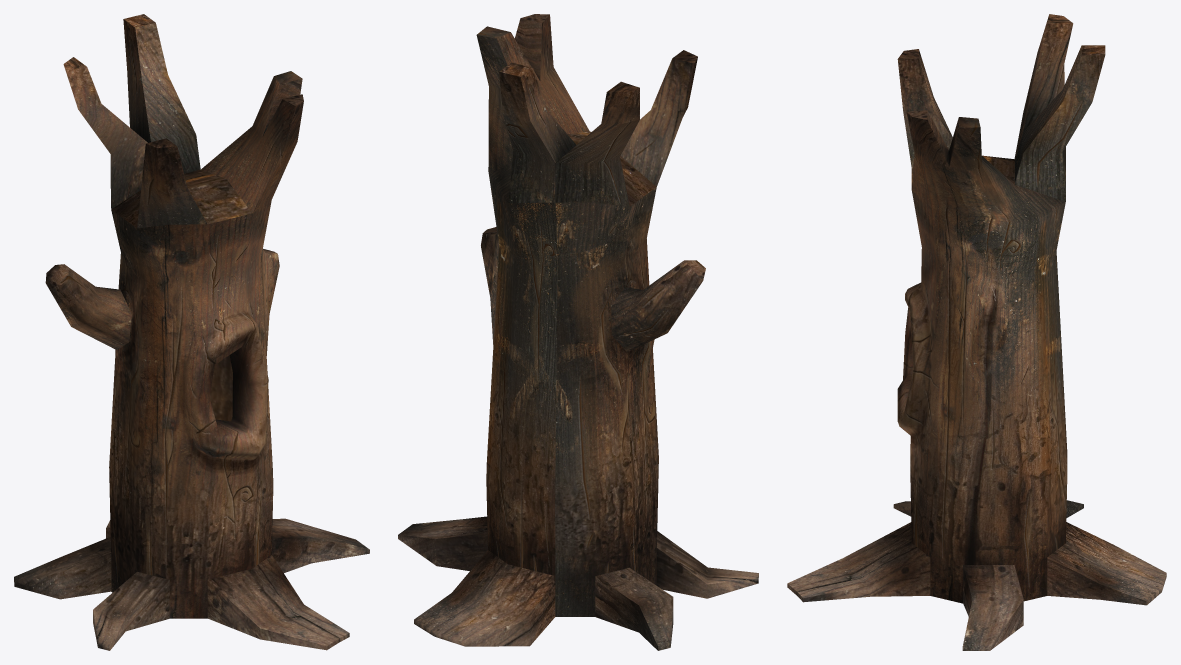
File: old_tree.glb
3 views of the same model, side by side, from view 1: azimuth 30°, elevation 25°; view 2: azimuth 150°, elevation 25°; view 3: azimuth 270°, elevation 25° (orthographic). The views are drawn at different scales.
Visible parts, largest first — view 1: exterieur, interieur; view 2: exterieur; view 3: exterieur.
Boxes of the visible parts, x1,y1,x2,y2 form: exterieur: (14, 14, 369, 650); interieur: (209, 355, 232, 421); exterieur: (398, 14, 758, 650); exterieur: (787, 14, 1166, 650).
Size of the model in its own units: 246 by 419 by 271.
Materials: 1 (1 with a texture image).
